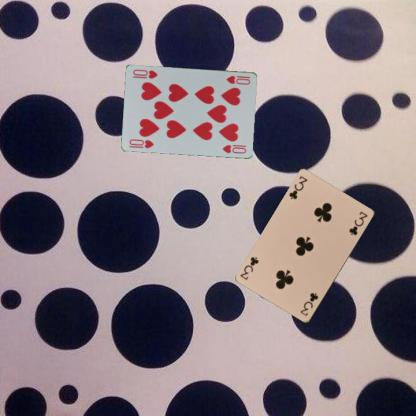10h: (127, 136, 156, 150), (224, 73, 251, 85)
3c: (286, 173, 308, 201), (298, 290, 320, 317)
